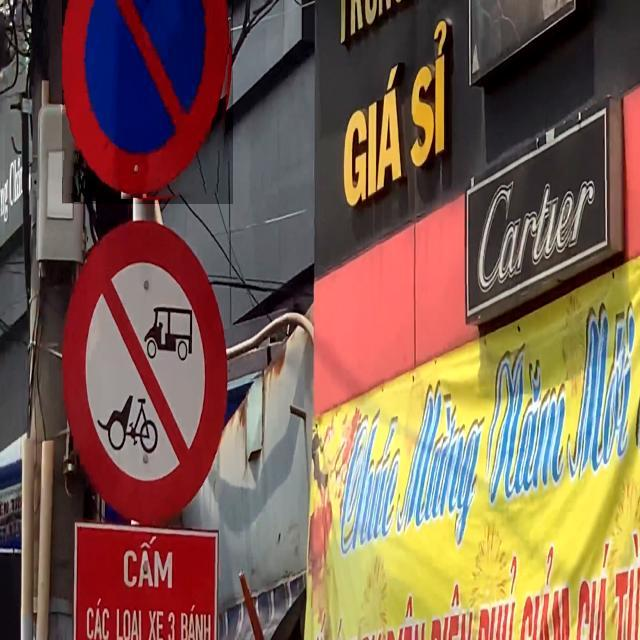P-131a: (62, 0, 233, 204)
